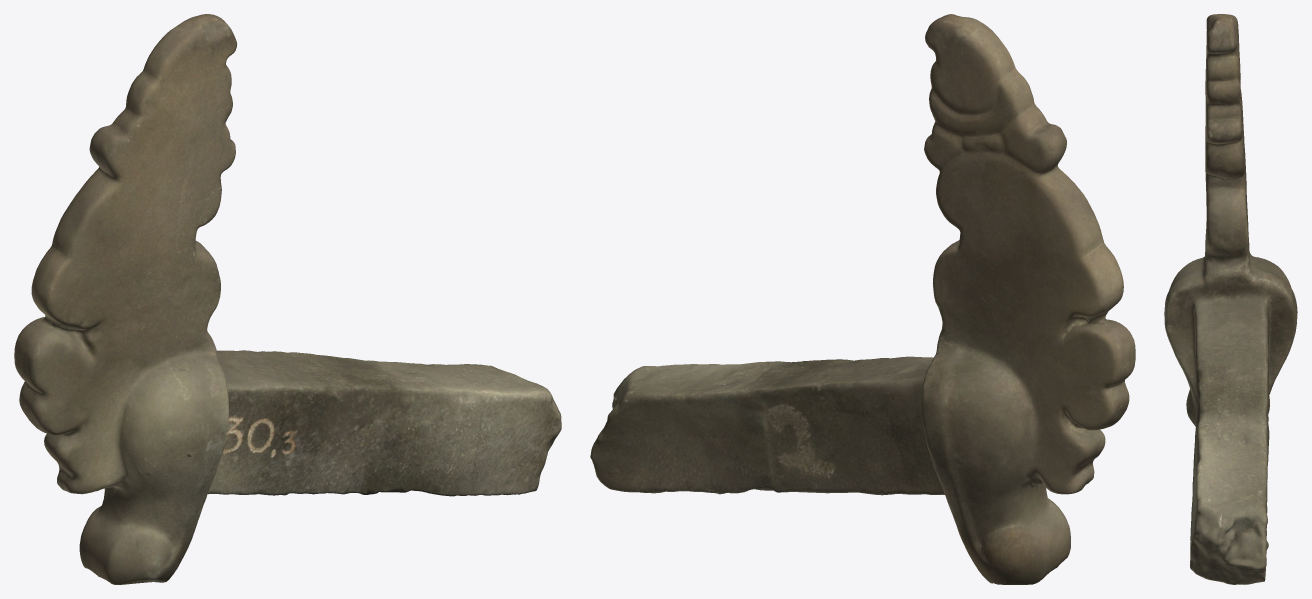
Rendered from 24_vattrangtri_final.glb.
3 views of the same model, side by side, from view 1: azimuth 30°, elevation 25°; view 2: azimuth 150°, elevation 25°; view 3: azimuth 270°, elevation 25° (orthographic). The views are drawn at different scales.
Bounding box in the file's own units: 0.7598 × 0.7507 × 0.2049.
1 material, 1 textured.
